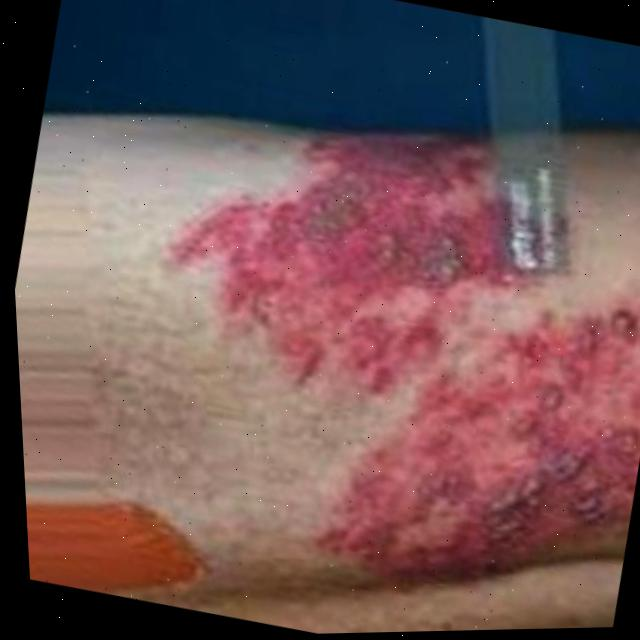Shingles: (118, 69, 640, 614)
